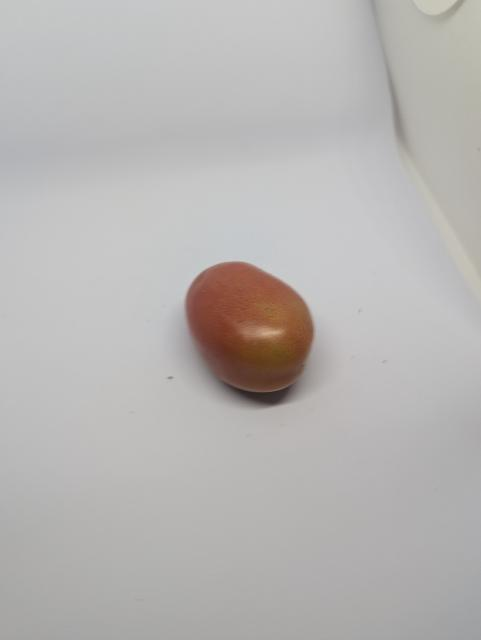red: (175, 255, 326, 410)
